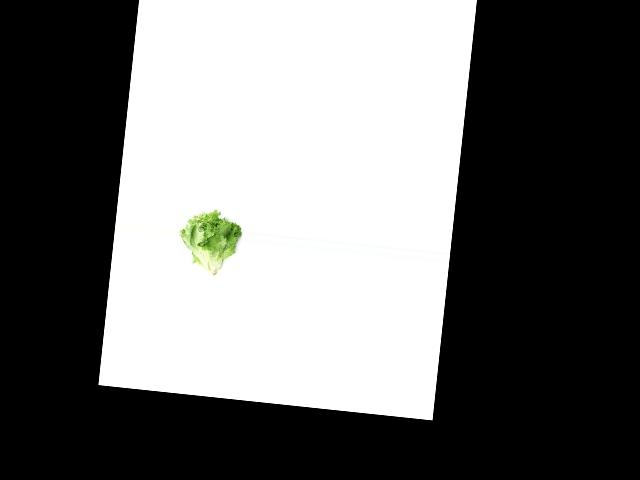lettuce: (174, 207, 244, 278)
